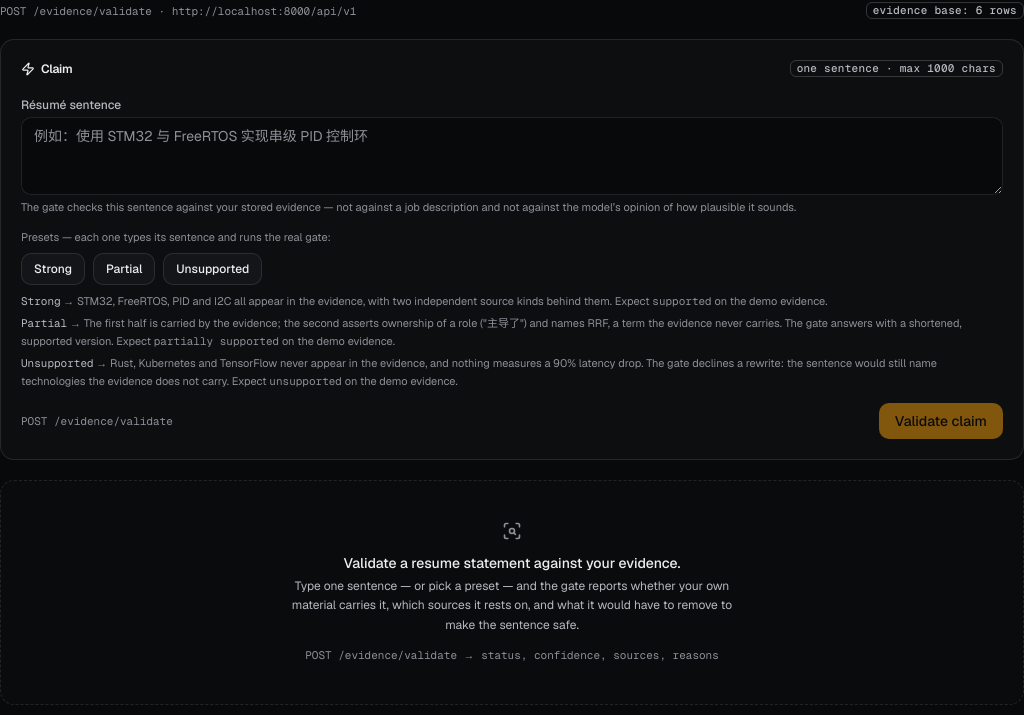
Test case: the claim validator page › lists each cited source with its channel and confidence
The width and height of the screenshot is (1024, 715).
In the text box labelled "Résumé sentence": coordinates (512, 156) x1=21 y1=117 x2=1003 y2=195, type "使用 STM32 与 FreeRTOS 实现串级 PID 控制环"
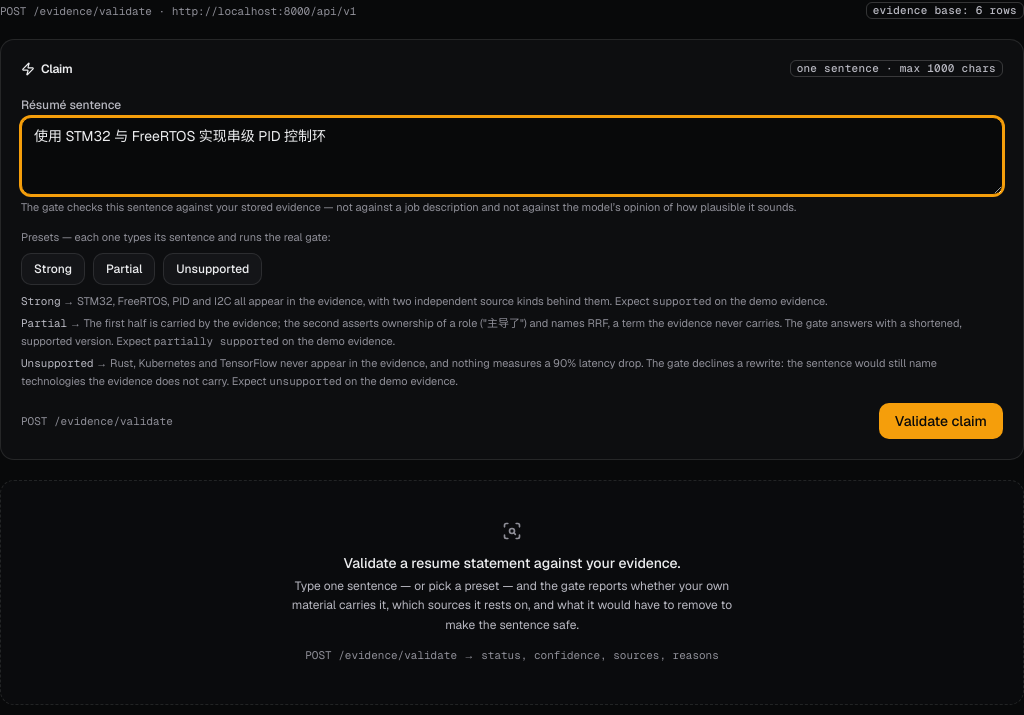
Click the button with test id "validate-claim": coordinates (941, 421) x1=879 y1=403 x2=1003 y2=439
(page scrolled)
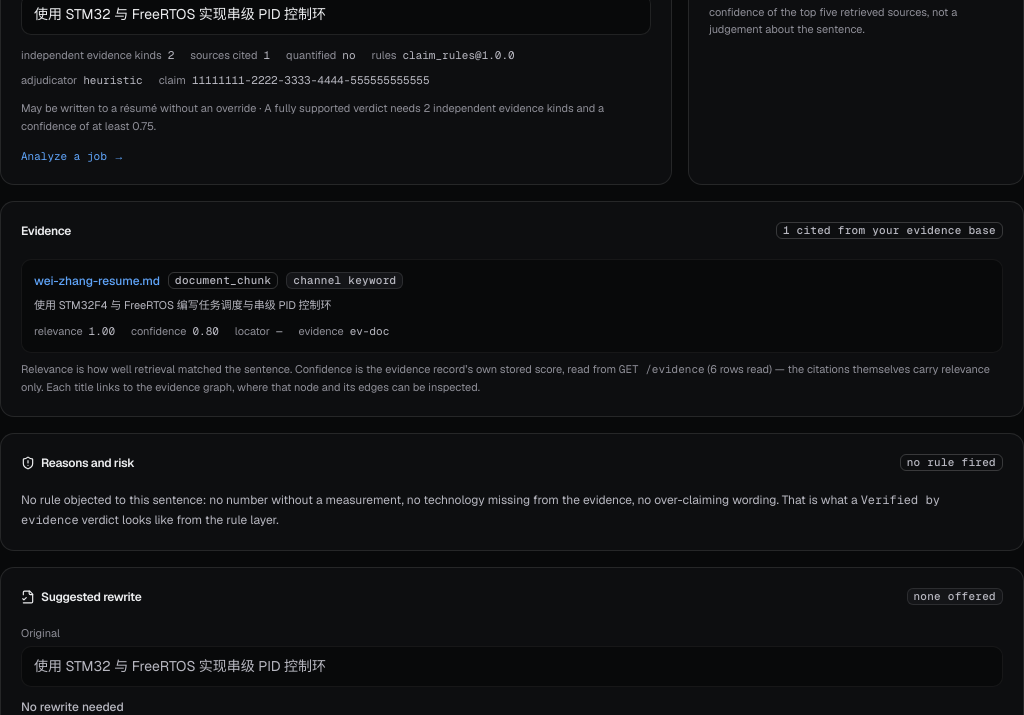
Check: the text "channel keyword" is shown, box x1=286 y1=272 x2=403 y2=289
Check: the text "1.00" is shown, box x1=89 y1=323 x2=115 y2=340
Check: the text "0.80" is shown, box x1=192 y1=323 x2=219 y2=340
